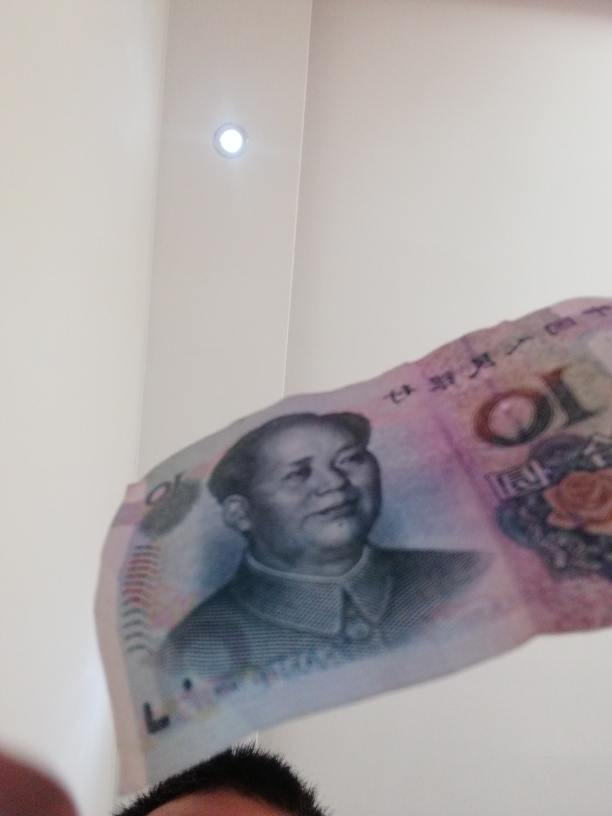rmb: (93, 299, 612, 785)
